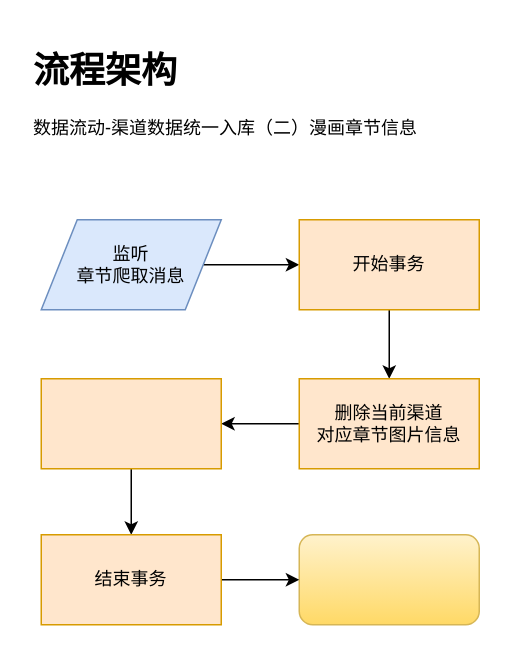
The diagram is 506 pixels wide and 651 high, and some of its shapes have lost their labels. The centre of each missing label's shape, as x and y in pixels:
插入当前渠道 章节图片信息: the point at 130,423
结束: the point at 388,579
